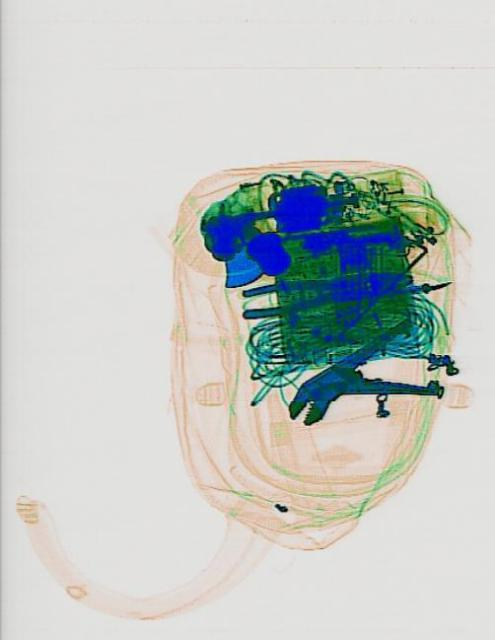Pliers: (274, 310, 442, 450), (239, 262, 412, 320)
